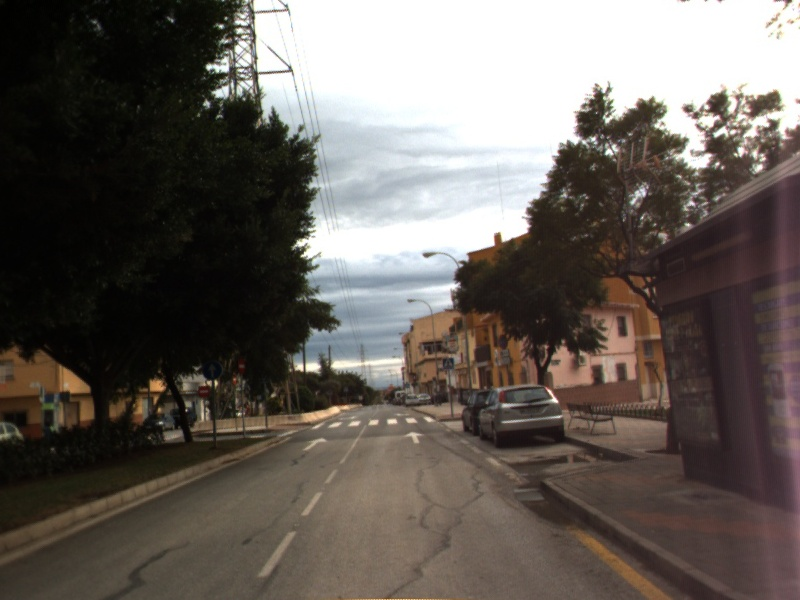STRAIGHT: (300, 435, 330, 453), (402, 429, 426, 445)
